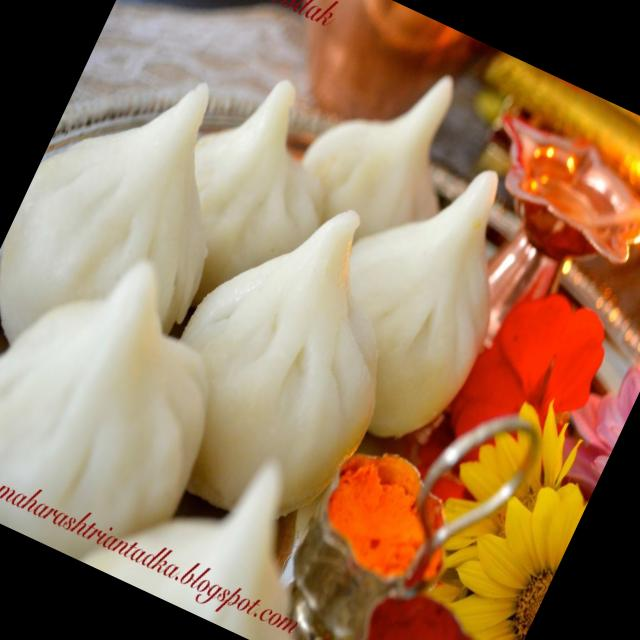modak: (130, 180, 447, 545), (290, 138, 584, 476), (0, 268, 238, 585), (0, 87, 248, 352), (153, 67, 360, 297), (298, 51, 486, 254)
